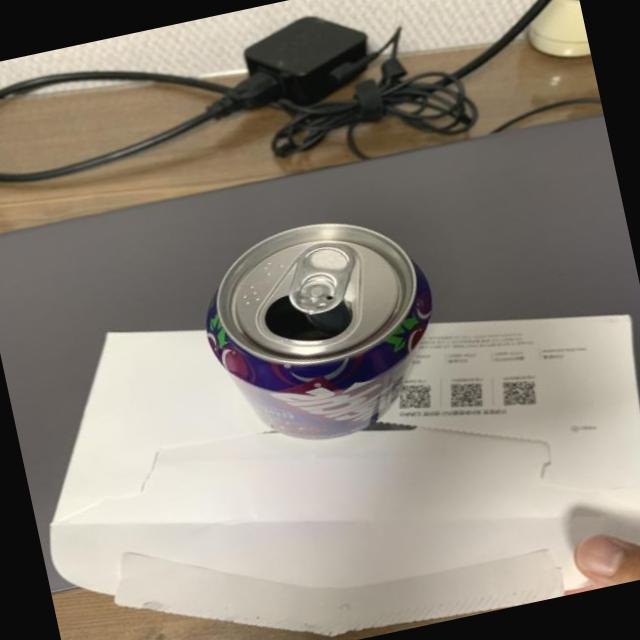can: (186, 197, 460, 462)
